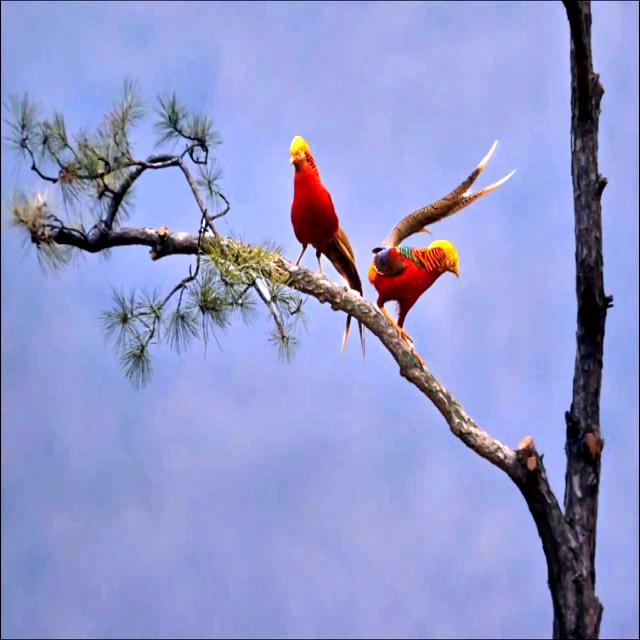Chrysolophus pictus feather: (387, 141, 517, 247), (322, 228, 365, 358)
